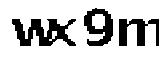9: (80, 7, 114, 50)
m: (116, 15, 160, 50)
w: (7, 16, 52, 49)
x: (49, 16, 78, 48)
